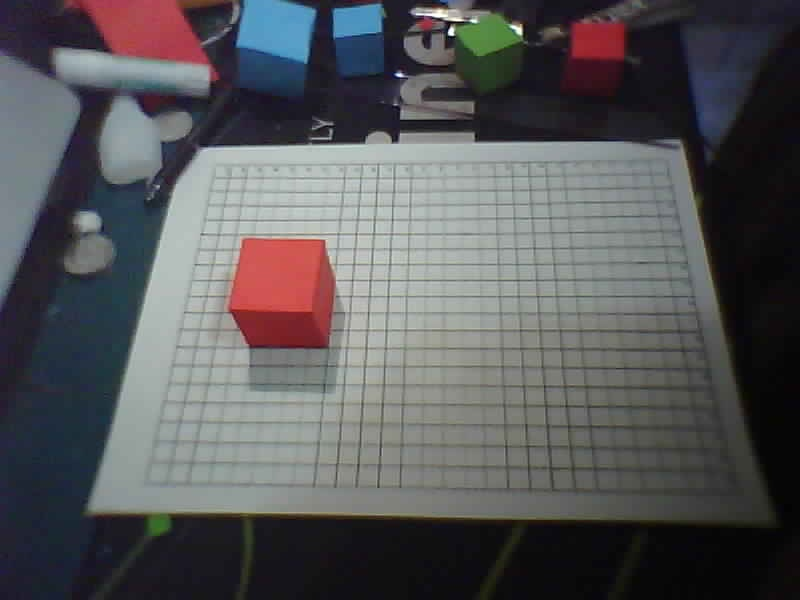LB: (142, 479, 150, 485)
LT: (213, 162, 221, 168)
RB: (733, 491, 741, 497)
RT: (663, 157, 671, 163)
